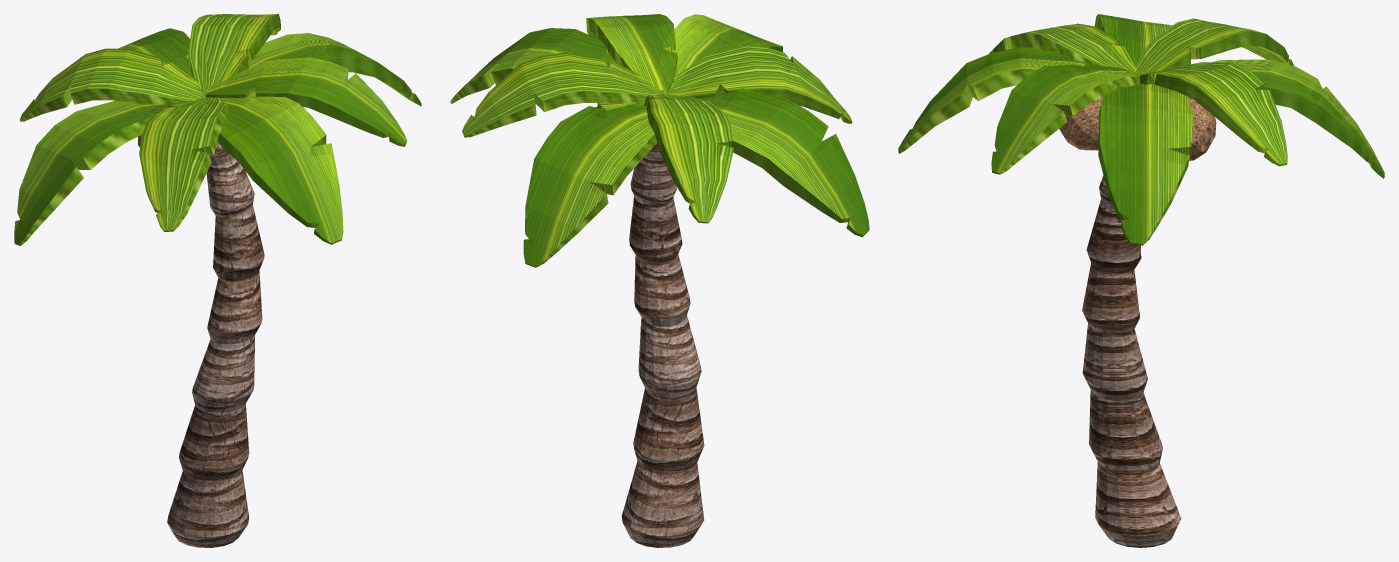
File: Palmeira.1_LOD.fbx
3 renders of one model, left to right at view 1: azimuth 30°, elevation 25°; view 2: azimuth 150°, elevation 25°; view 3: azimuth 270°, elevation 25°, orthographic. The views are drawn at different scales.
Visible parts, largest first — view 1: Folha_LOD0, Tronco_LOD0; view 2: Folha_LOD0, Tronco_LOD0; view 3: Folha_LOD0, Tronco_LOD0.
Part boxes in pixels (left/top/right/bottom): Folha_LOD0: left=14, top=14, right=421, bottom=245; Tronco_LOD0: left=167, top=142, right=264, bottom=547; Folha_LOD0: left=450, top=14, right=869, bottom=267; Tronco_LOD0: left=621, top=143, right=704, bottom=547; Folha_LOD0: left=898, top=14, right=1384, bottom=245; Tronco_LOD0: left=1082, top=175, right=1181, bottom=547.
Size of what is drawn, in the model's own units: 1442 by 1608 by 1435.
3 materials, 3 textured.
